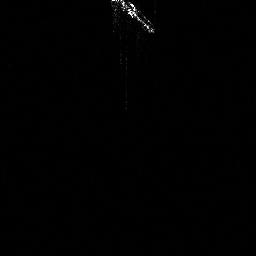ship: (108, 1, 156, 33)
